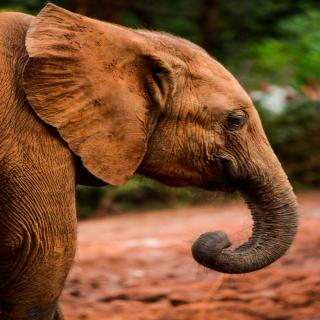Elephant: (0, 0, 320, 308)
